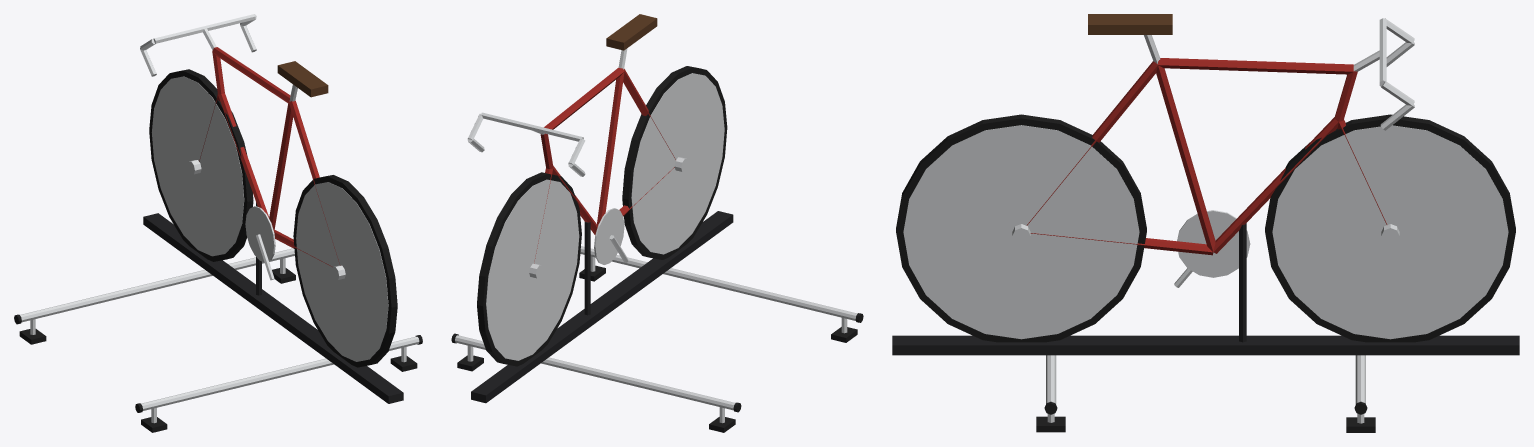
Rendered from roofrack_bike_modern.glb.
3 views of the same model, side by side, from view 1: azimuth 30°, elevation 25°; view 2: azimuth 150°, elevation 25°; view 3: azimuth 270°, elevation 25° (orthographic). The views are drawn at different scales.
Parts seen in each view (by area): view 1: Bike, RoofRack, Tray; view 2: Bike, RoofRack, Tray; view 3: Bike, Tray, RoofRack.
Boxes of the visible parts, x1,y1,x2,y2 form: Bike: (140,14,397,367); RoofRack: (14,248,422,432); Tray: (143,213,403,403); Bike: (467,14,727,366); RoofRack: (451,246,863,432); Tray: (471,211,733,403); Bike: (896,14,1515,342); Tray: (892,335,1519,355); RoofRack: (1036,355,1375,432).
Size of the model in its own units: 1.13 by 1.09 by 1.7.
